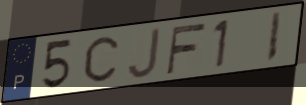1: (211, 17, 232, 71)
5: (39, 36, 77, 92)
C: (83, 34, 121, 84)
F: (164, 21, 209, 77)
I: (264, 10, 284, 65)
J: (126, 25, 163, 81)
